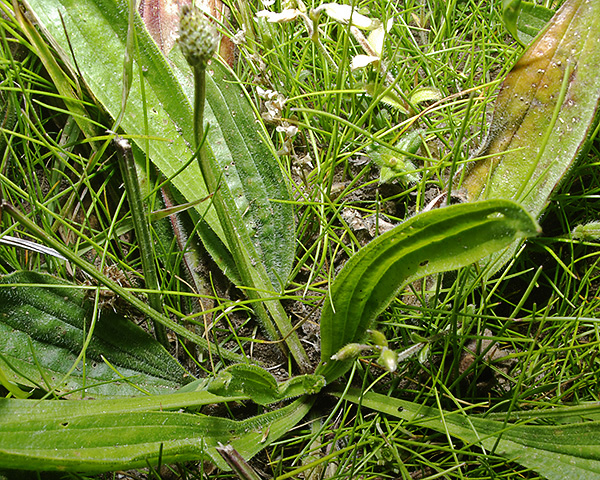buckhorn plantain: (65, 12, 502, 436)
